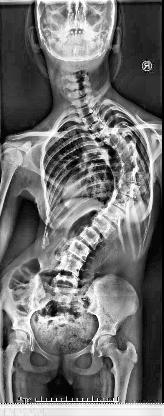Vertebrae: (66, 238, 91, 262), (91, 213, 115, 237), (59, 252, 83, 275), (54, 274, 82, 292), (102, 205, 124, 225), (82, 226, 100, 249), (113, 193, 133, 213), (121, 169, 145, 185), (122, 182, 142, 198), (120, 146, 140, 162), (112, 139, 130, 155), (123, 158, 143, 172), (96, 128, 114, 142), (88, 121, 104, 135), (78, 105, 94, 119), (106, 134, 124, 146), (82, 115, 100, 127)
